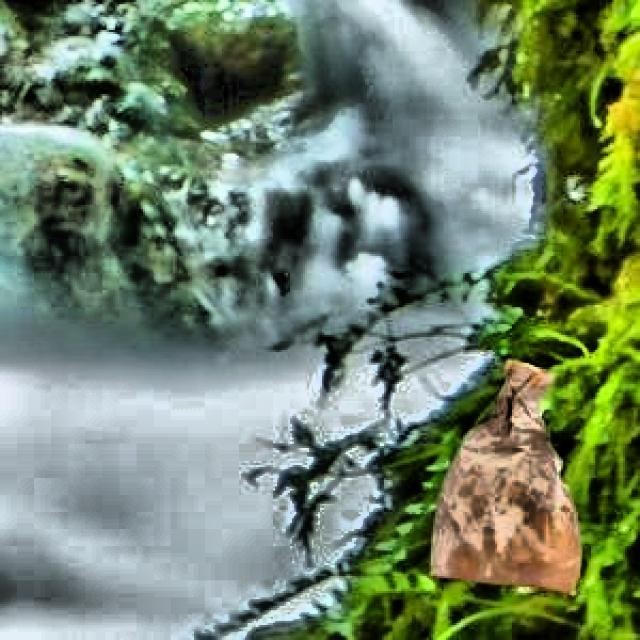Paper-bag: (404, 347, 607, 608)
